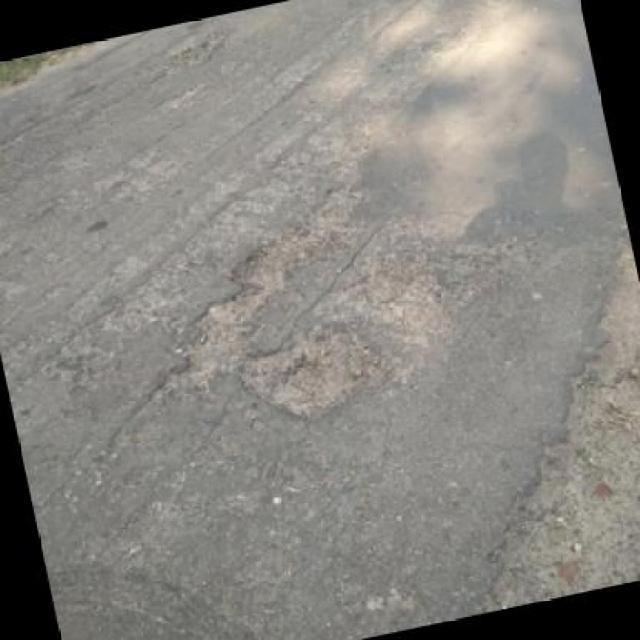pothole1: (412, 245, 638, 612), (126, 231, 323, 403), (229, 310, 382, 435), (162, 25, 235, 69)
